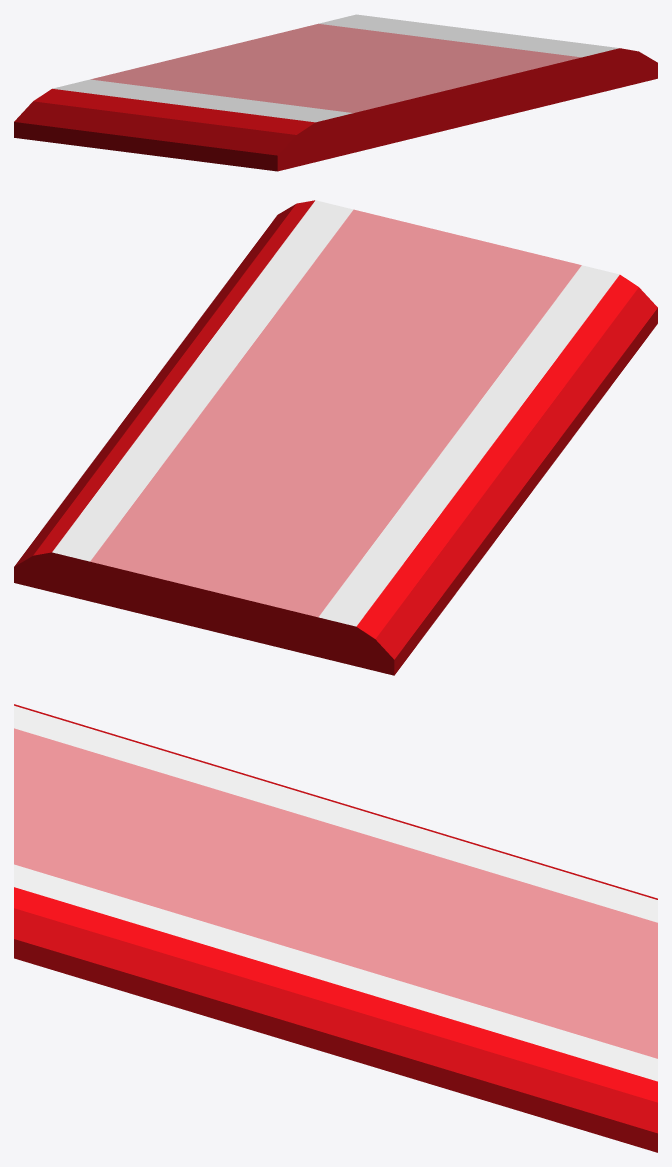
Rendered from inc12.fbx.
3 views of the same model, one above another, from view 1: azimuth 30°, elevation 25°; view 2: azimuth 150°, elevation 25°; view 3: azimuth 270°, elevation 25° (orthographic). The views are drawn at different scales.
Visible parts, largest first — view 1: Incline2; view 2: Incline2; view 3: Incline2.
Part boxes in pixels (x1,y1,x2,y2): Incline2: (14, 14, 657, 171); Incline2: (14, 200, 657, 675); Incline2: (14, 704, 657, 1152).
Size of the model in its own units: 10 by 5 by 12.
